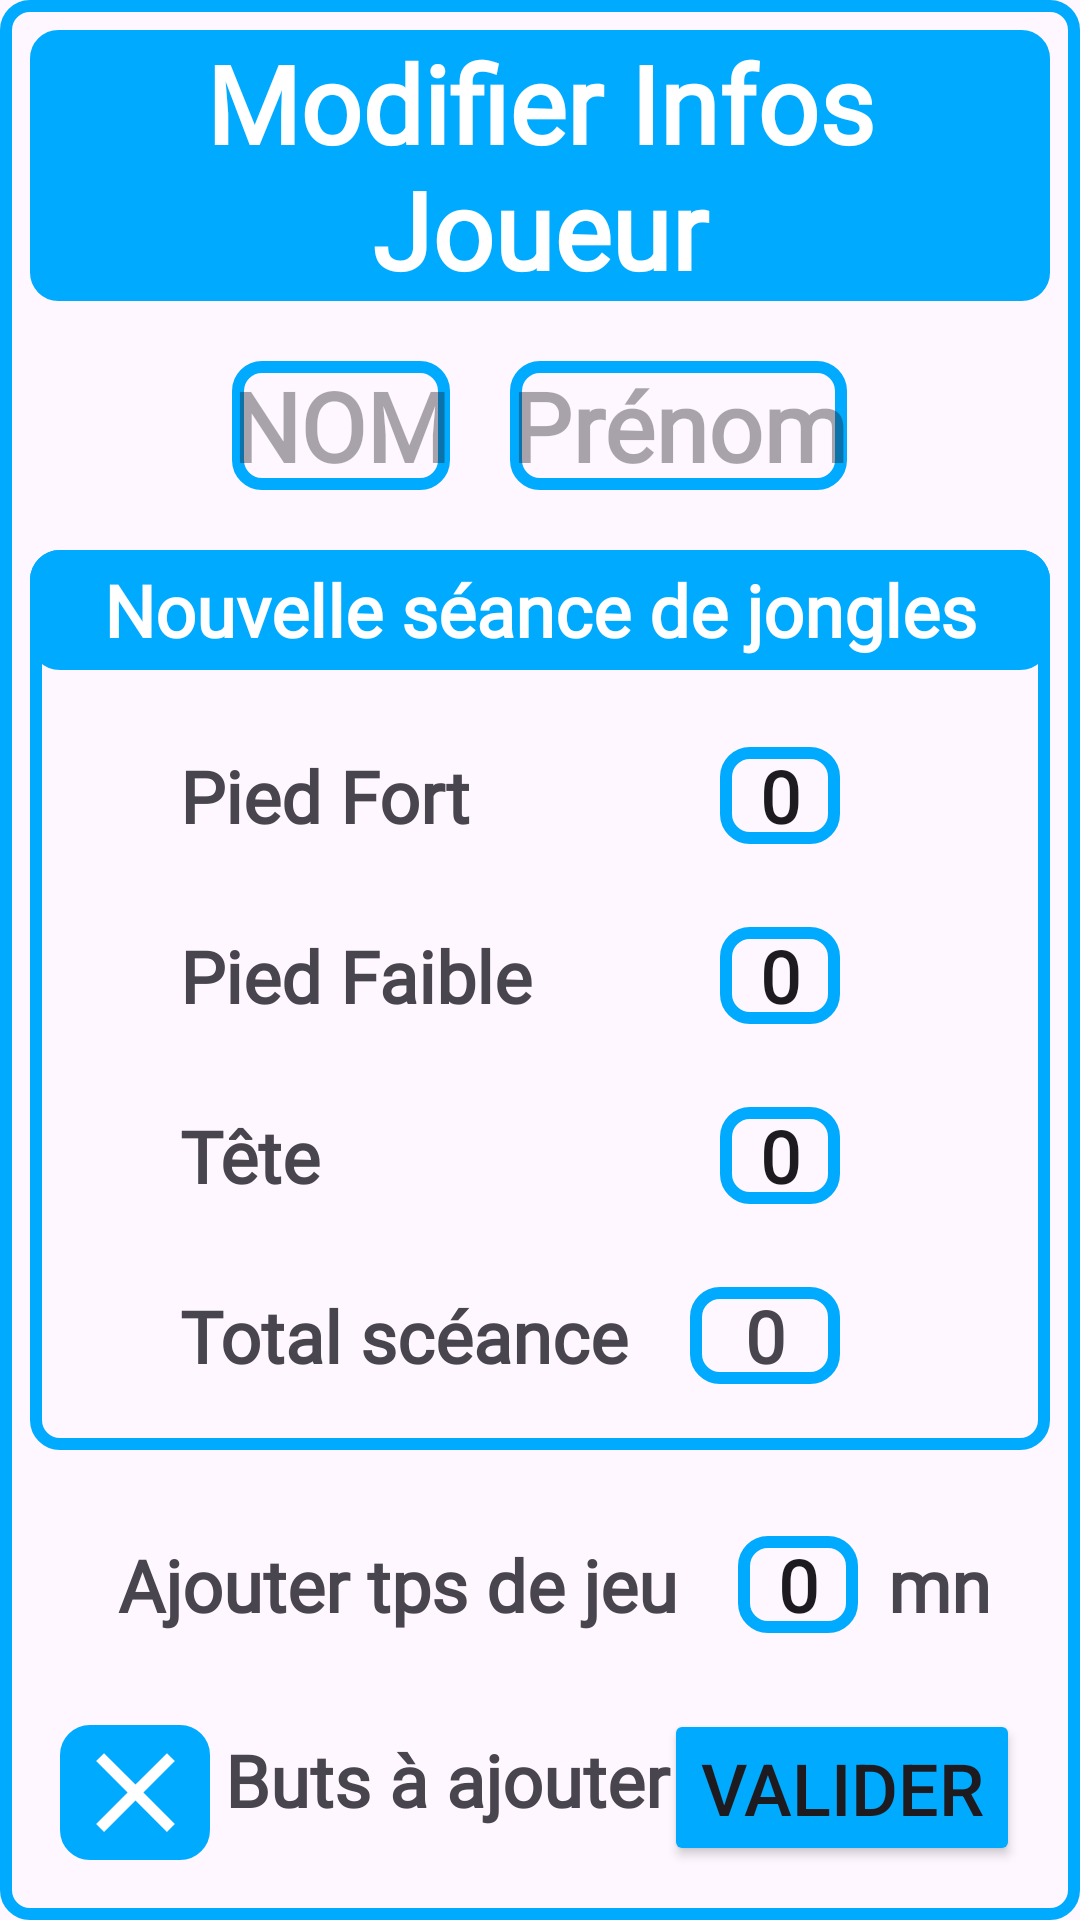

Icon click points for this 1080x1920 phone screenshot, format (x=x, y=y):
close: (x=135, y=1792)
